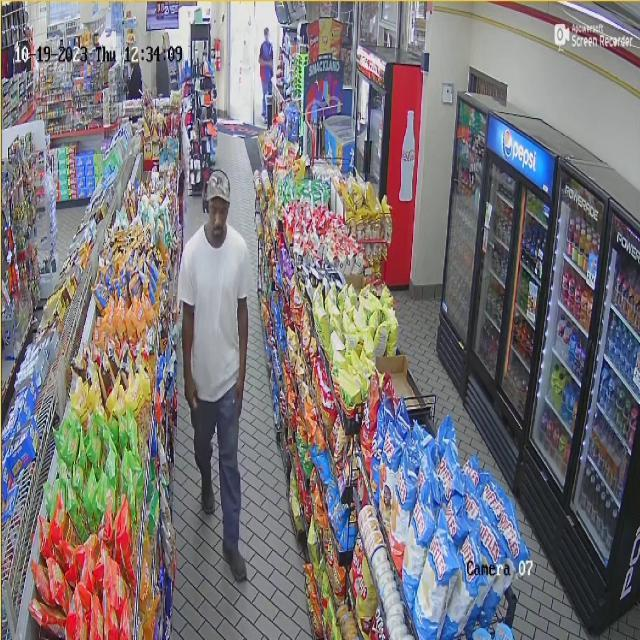Normal: (179, 155, 253, 594)
